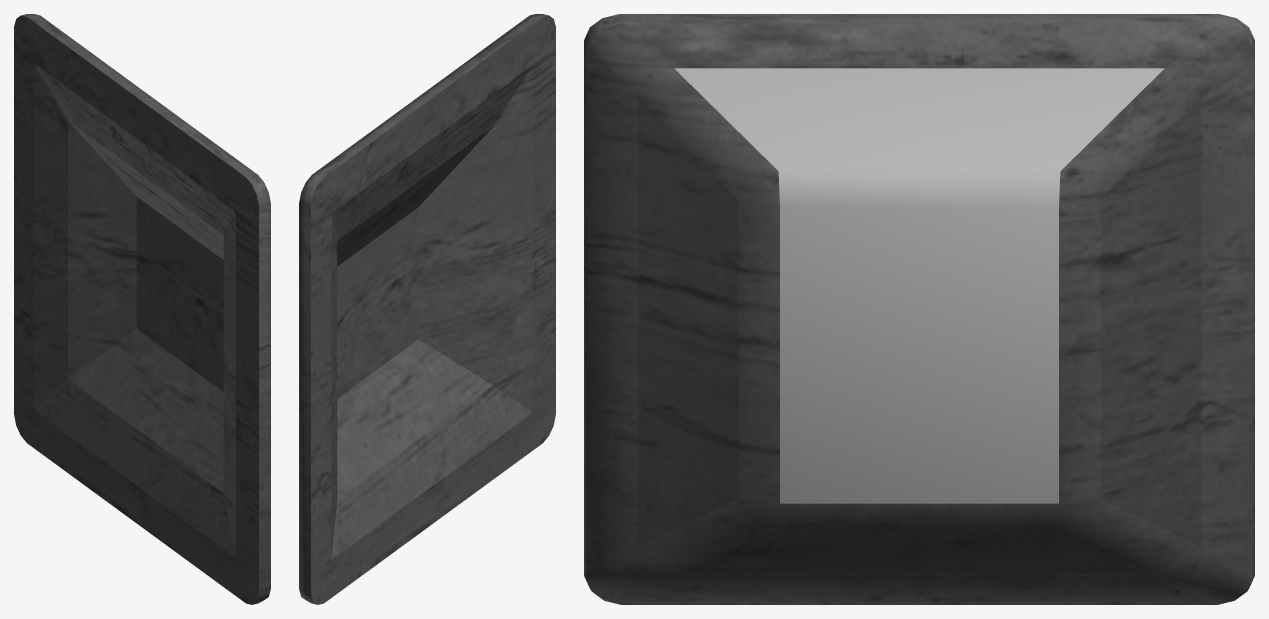
File: p6_fuse_box_lid_b2_lod0.glb
The picture shows the model from 3 angles, left to right: view 1: azimuth 30°, elevation 25°; view 2: azimuth 150°, elevation 25°; view 3: azimuth 270°, elevation 25°; orthographic projection. The views are drawn at different scales.
Parts seen in each view (by area): view 1: surf0; view 2: surf0; view 3: surf0, surf1.
Part boxes in pixels (x1,y1,x2,y2): surf0: (14,14,270,604); surf0: (299,14,555,604); surf0: (584,14,1254,604); surf1: (674,68,1164,503).
Bounding box in the file's own units: 2.76 × 15.14 × 15.76.
